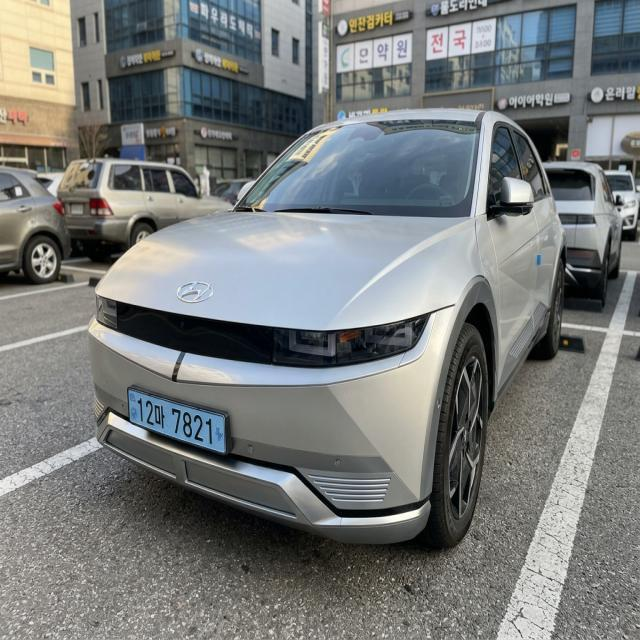car: (111, 379, 257, 461)
carev: (214, 410, 229, 454), (127, 388, 139, 428)
